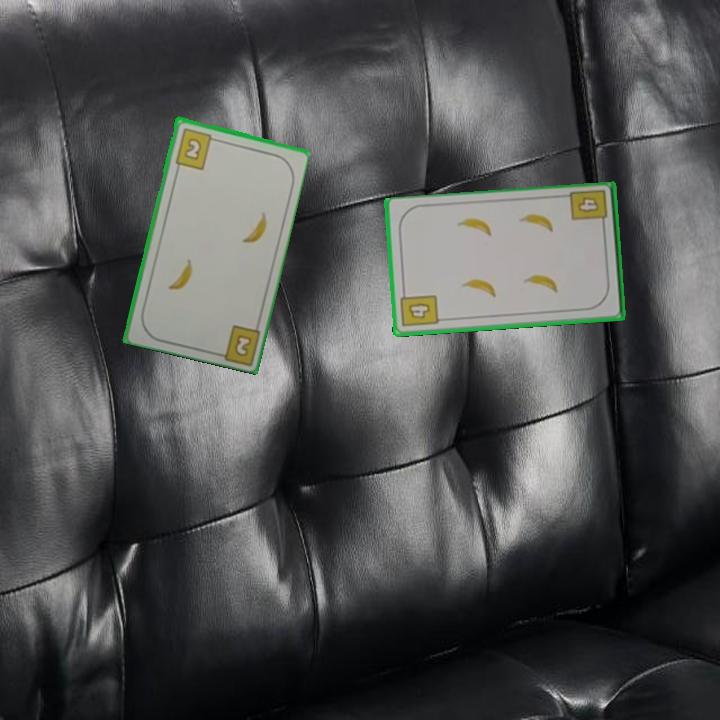2b: (171, 124, 220, 172), (231, 331, 254, 359)
4b: (567, 186, 610, 231), (397, 287, 441, 330)
